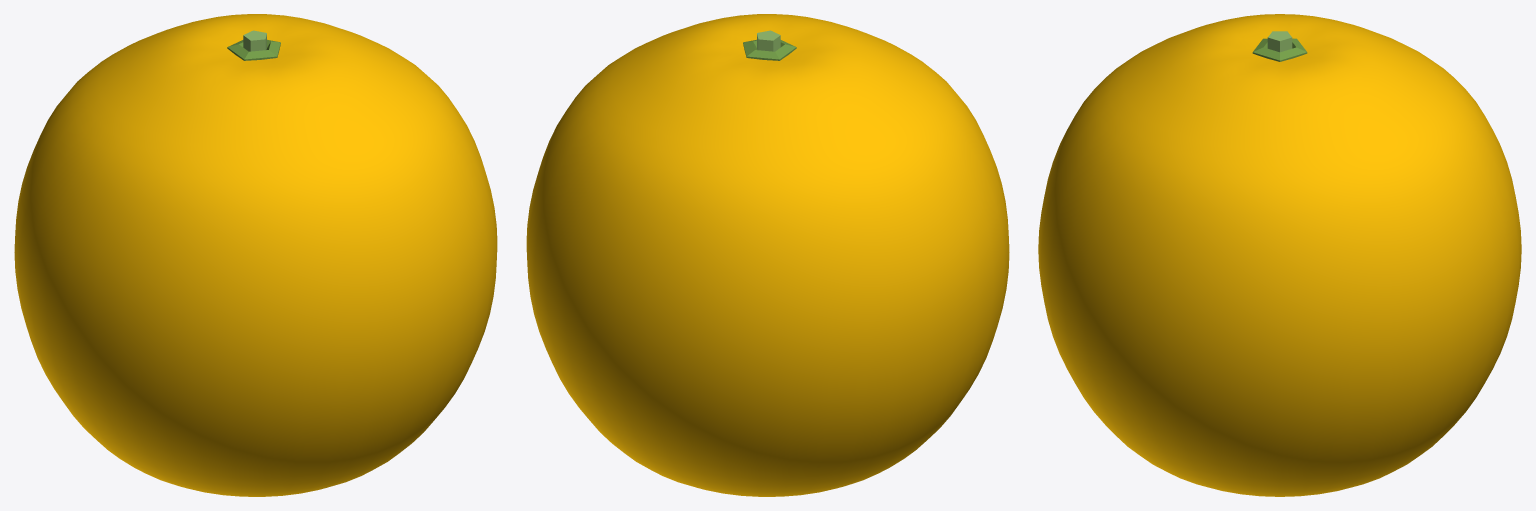
File: Orange_Final.fbx
The picture shows the model from 3 angles, left to right: view 1: azimuth 30°, elevation 25°; view 2: azimuth 150°, elevation 25°; view 3: azimuth 270°, elevation 25°; orthographic projection.
Visible parts, largest first — view 1: Flesh, Stub; view 2: Flesh, Stub; view 3: Flesh, Stub.
Part boxes in pixels (left/top/right/bottom): Flesh: left=14, top=14, right=497, bottom=496; Stub: left=227, top=39, right=280, bottom=60; Flesh: left=526, top=14, right=1009, bottom=496; Stub: left=743, top=39, right=796, bottom=60; Flesh: left=1038, top=14, right=1521, bottom=496; Stub: left=1252, top=38, right=1307, bottom=61.
Bounding box in the file's own units: 1.85 × 1.79 × 1.85.
